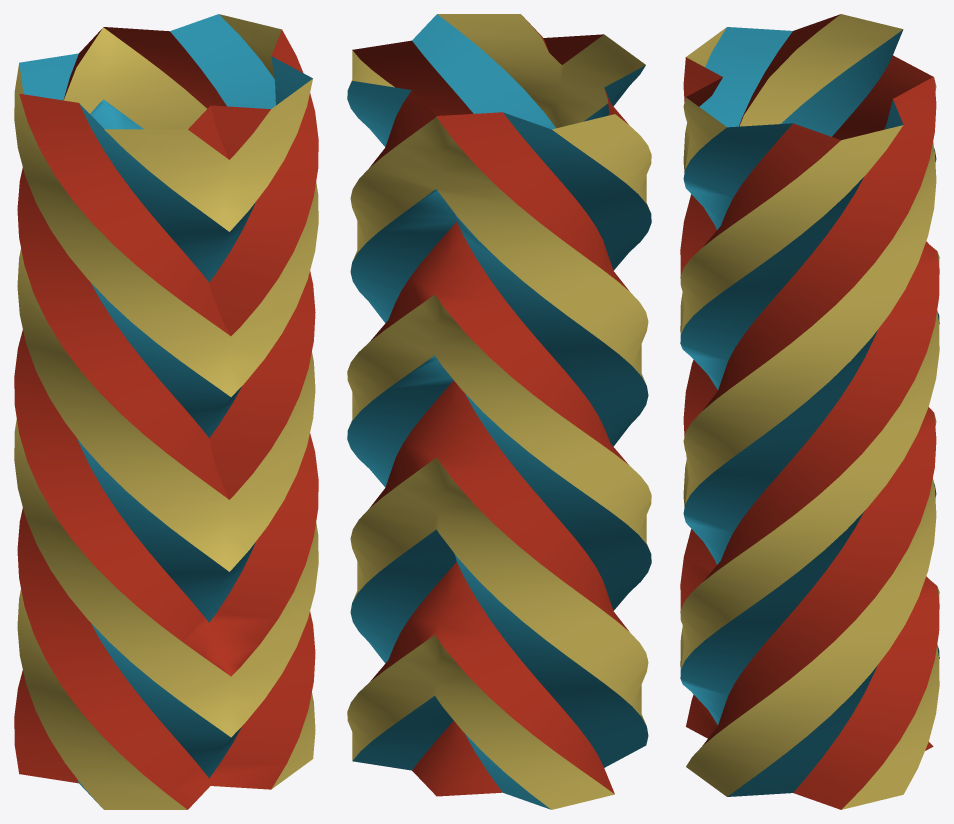
File: tower_a.FBX
3 views of the same model, side by side, from view 1: azimuth 30°, elevation 25°; view 2: azimuth 150°, elevation 25°; view 3: azimuth 270°, elevation 25° (orthographic).
Visible parts, largest first — view 1: Object022; view 2: Object022; view 3: Object022.
Part boxes in pixels (bbox=[...]): Object022: bbox=[14, 14, 318, 809]; Object022: bbox=[347, 14, 651, 809]; Object022: bbox=[680, 14, 939, 809].
Bounding box in the file's own units: 5959 × 14406 × 5050.
